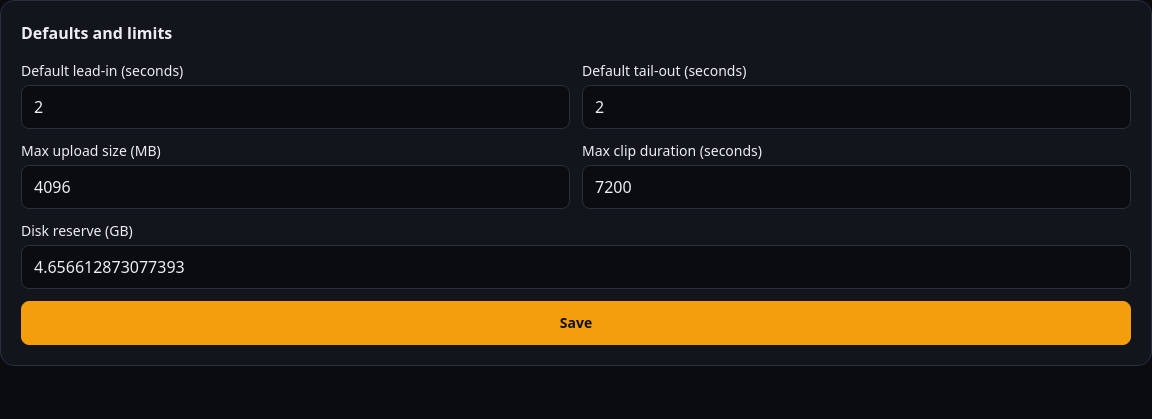
Test case: DefaultsPanel › rejects margins outside 0-10 seconds and invalid limits without saving
The width and height of the screenshot is (1152, 419).
Replace the text in the number field with id "defaults-lead" with "11" at (296, 107), box [21,85,570,129]
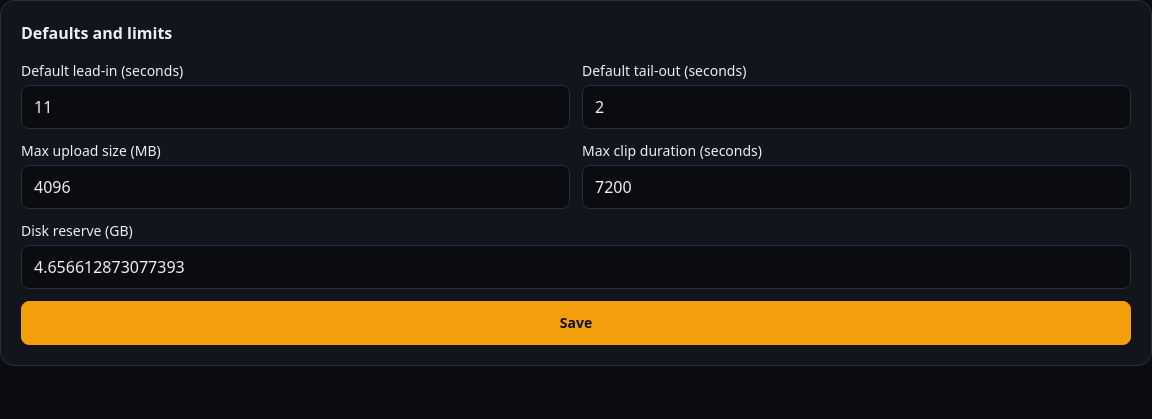
Submit the form
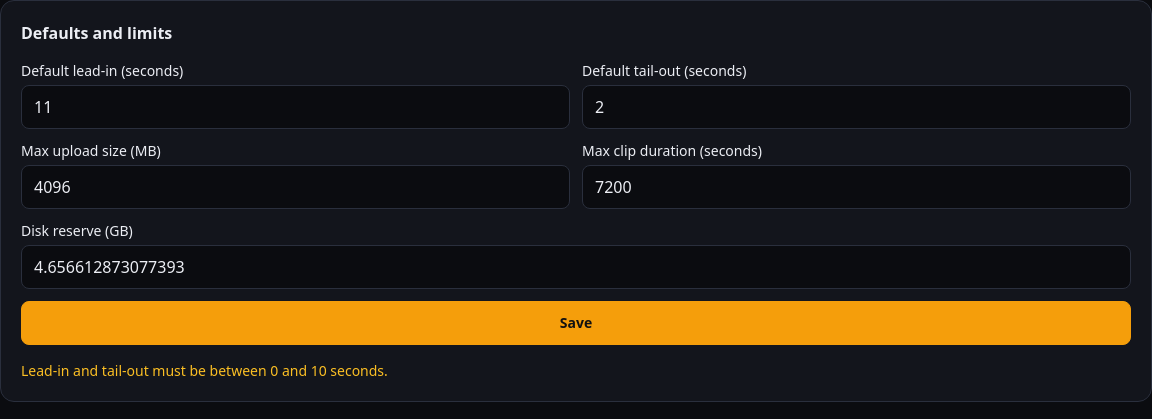
Now the message "Lead-in and tail-out must be between 0 and 10 seconds." is shown, box [21,361,388,380]
Replace the text in the number field with id "defaults-lead" with "2" at (296, 107), box [21,85,570,129]
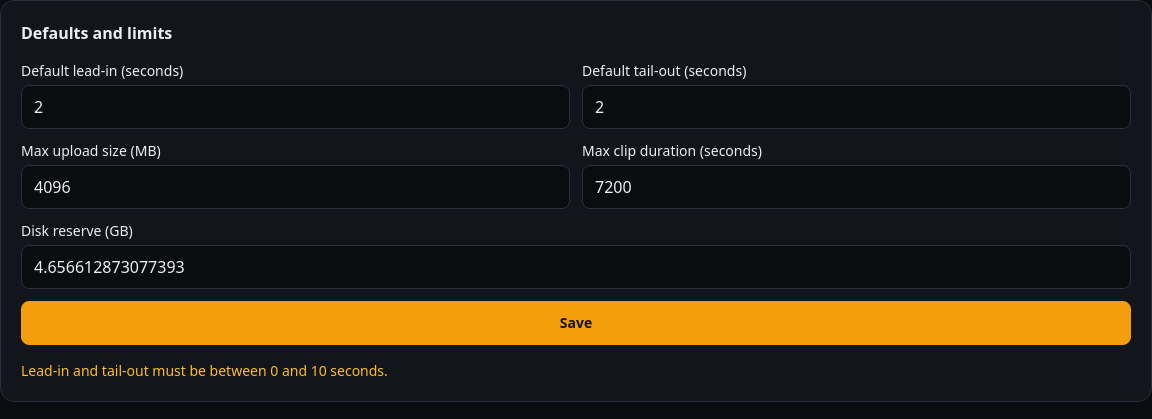
Replace the text in the number field with id "defaults-upload" with "0" at (296, 187), box [21,165,570,209]
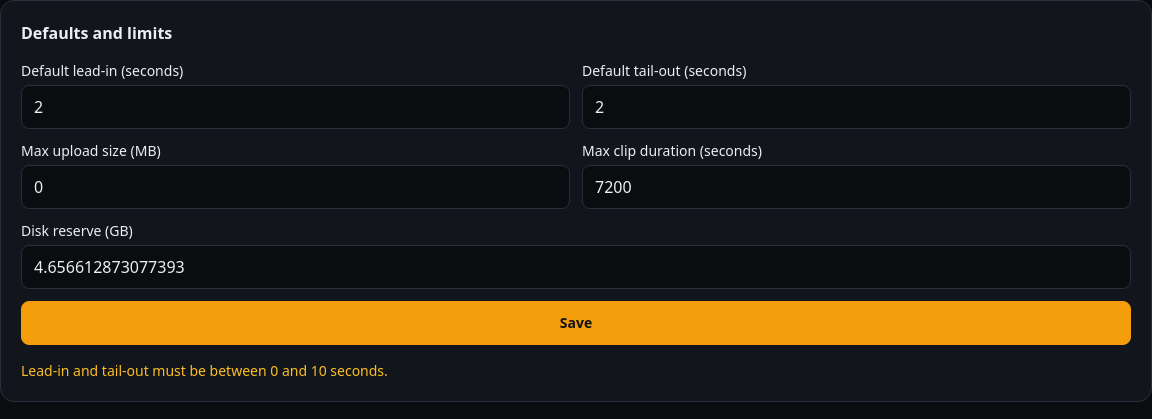
Submit the form
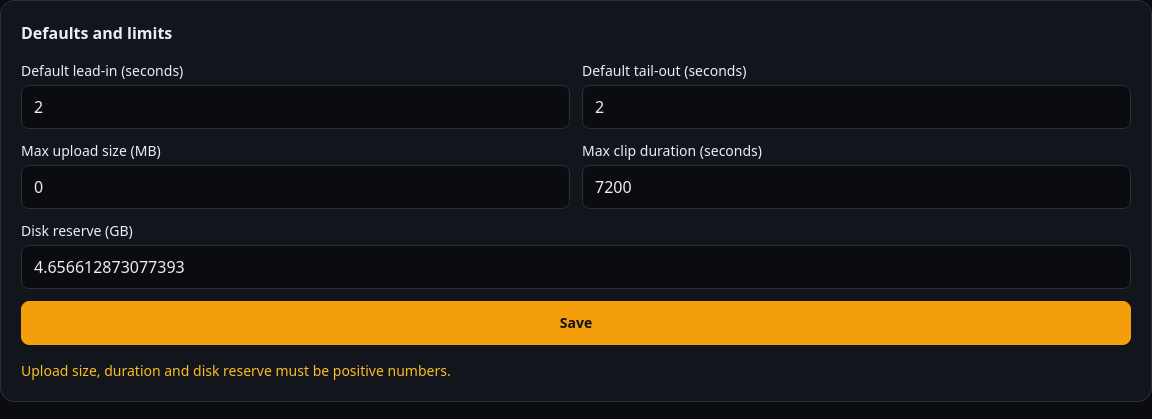
Now the message "Upload size, duration and disk reserve must be positive numbers." is shown, box [21,361,451,380]
